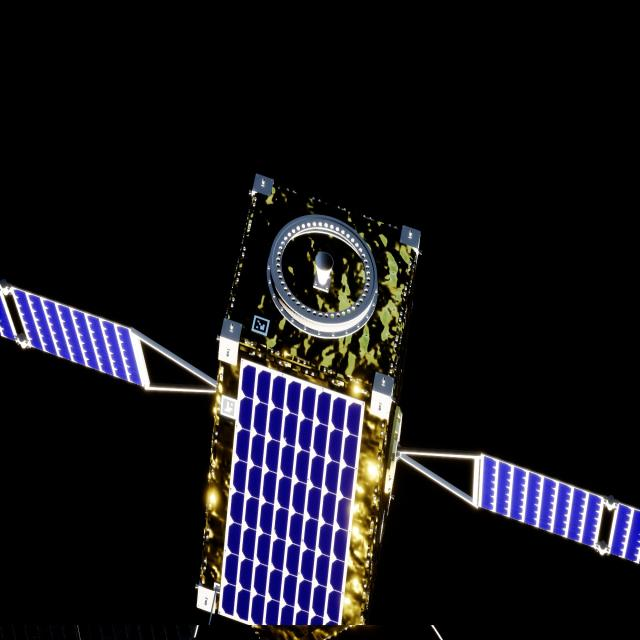satellite: (0, 174, 640, 631)
